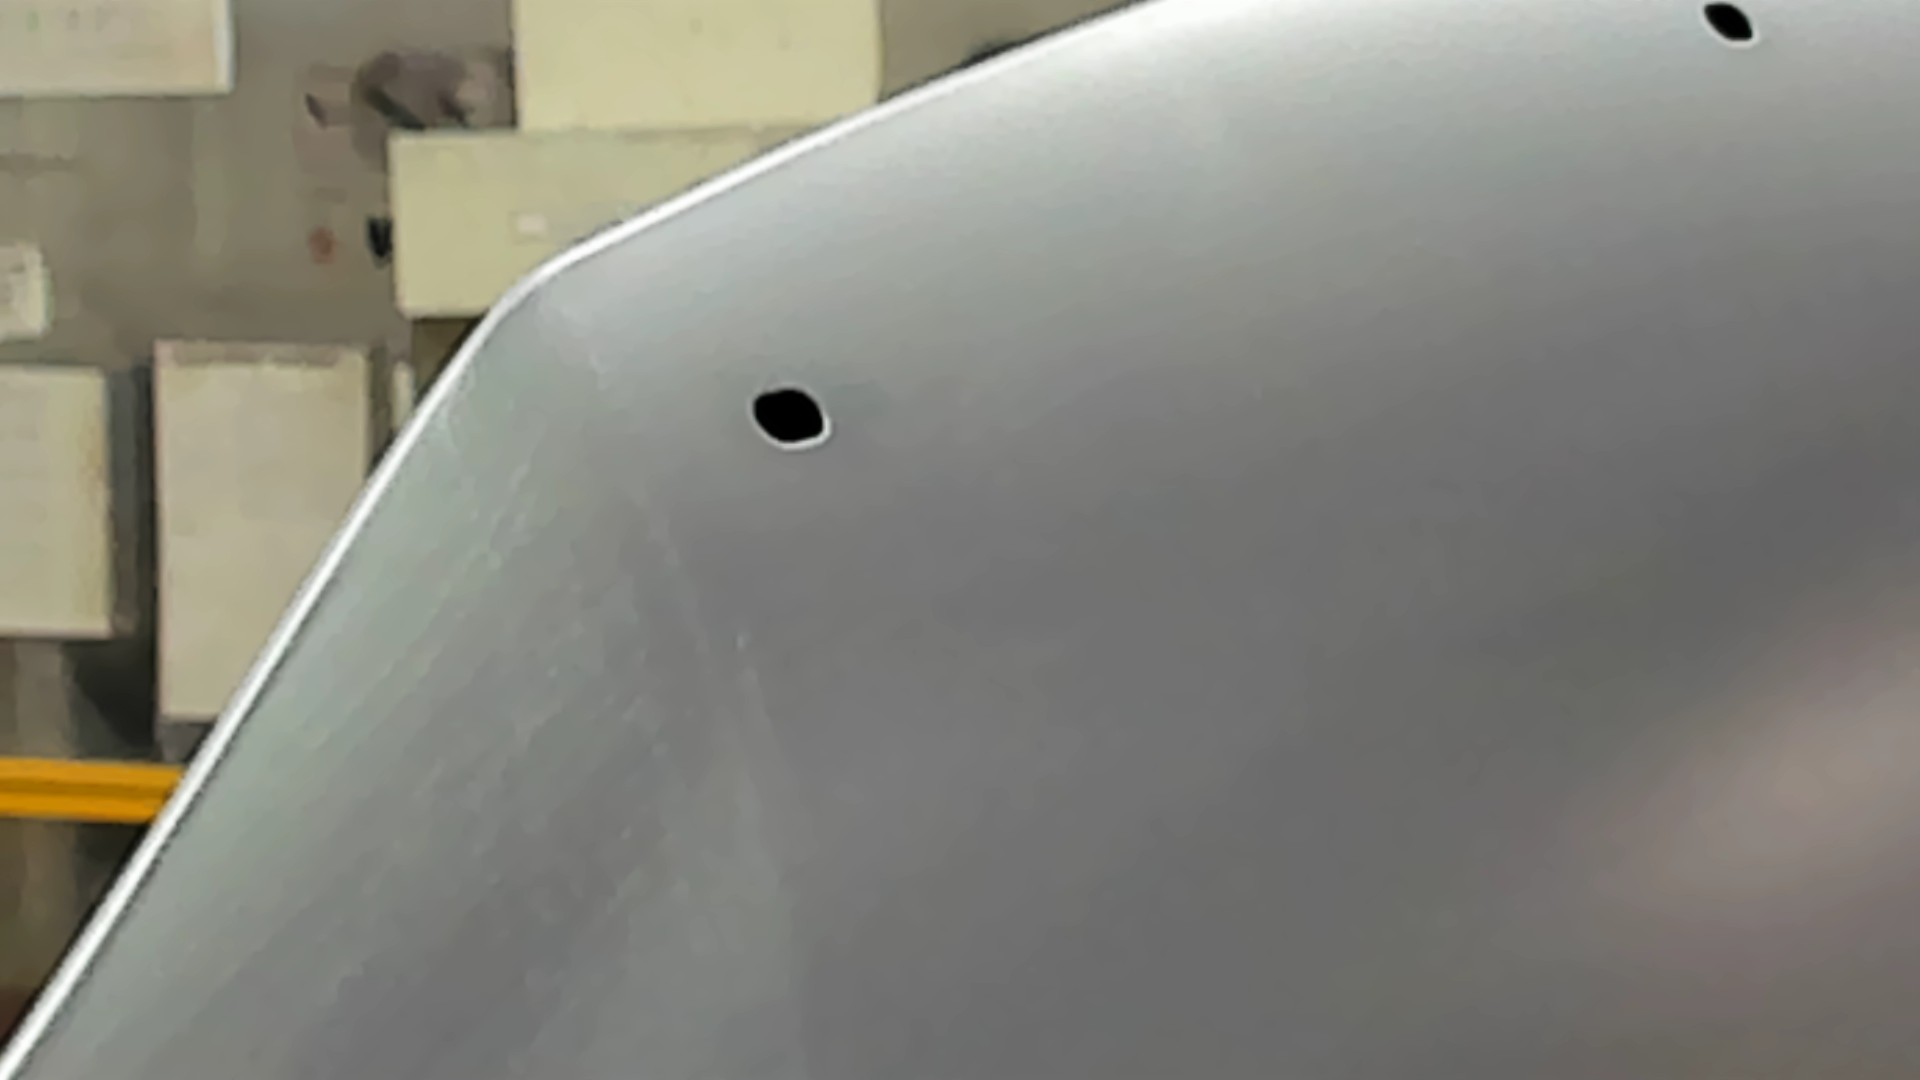amorfo: (746, 381, 836, 455), (1693, 1, 1764, 53)
